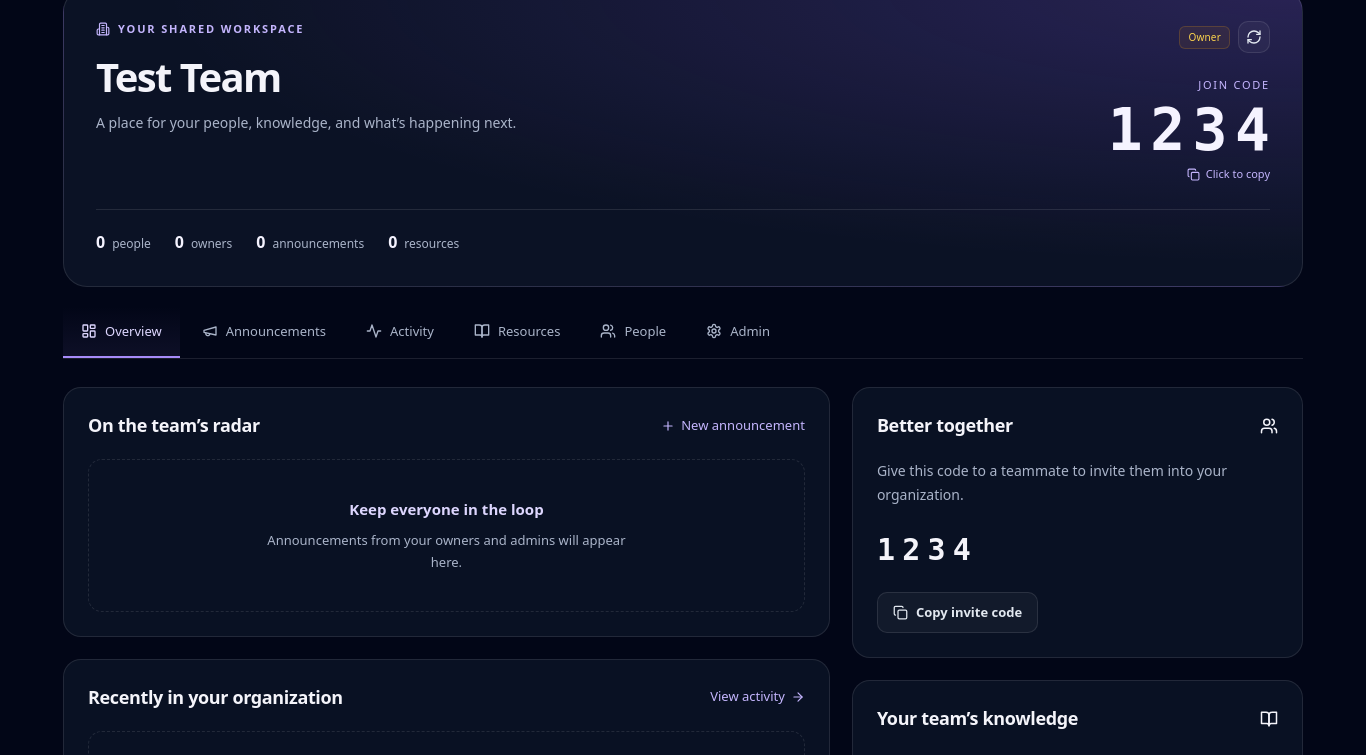
Organization deletion › keeps the dialog open and permits retry after a failure
Step 1. Click the button "Admin" → (738, 332), box [688, 306, 788, 358]
(page scrolled)
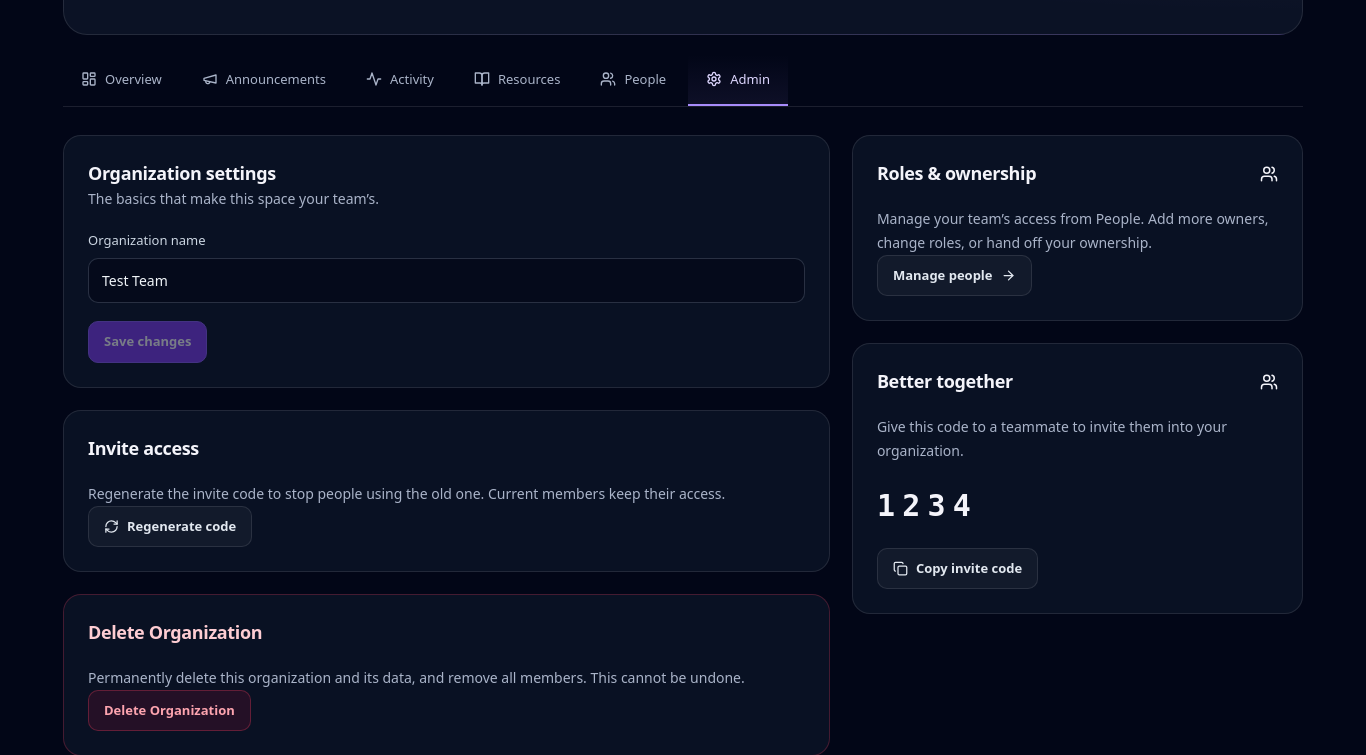
Step 2. Click the button "Delete Organization" → (169, 711), box [88, 690, 251, 731]
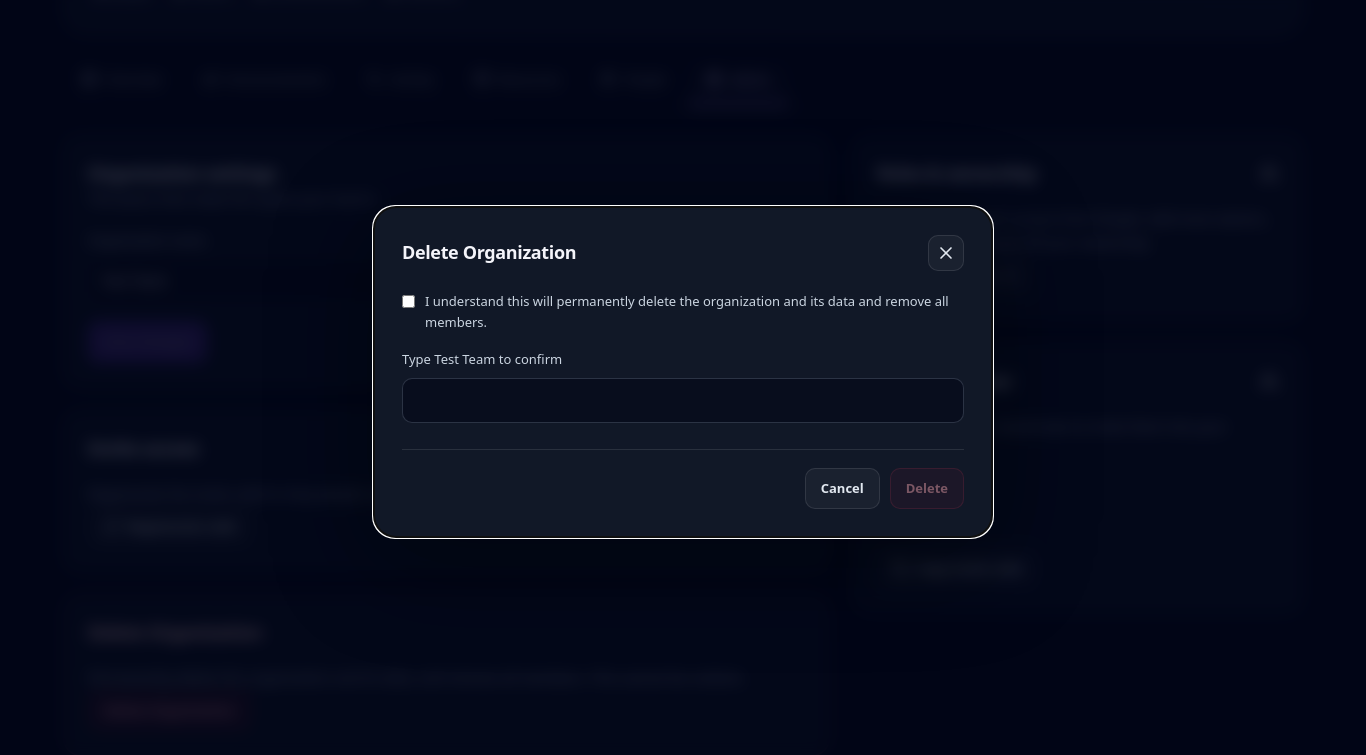
Step 3. Click the checkbox → (408, 301), box [402, 295, 415, 308]
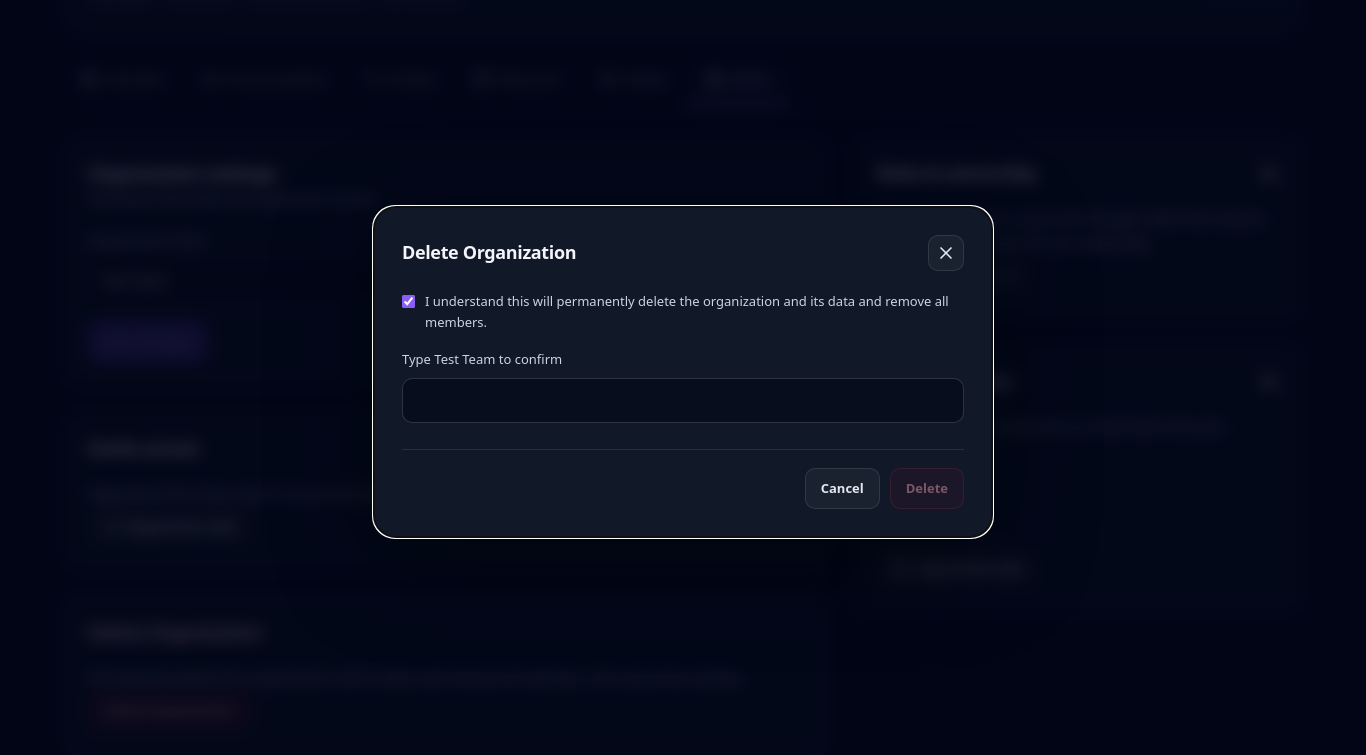
Step 4. Type "Test Team" into the field named "Organization name to confirm deletion" → (683, 400), box [402, 378, 964, 423]
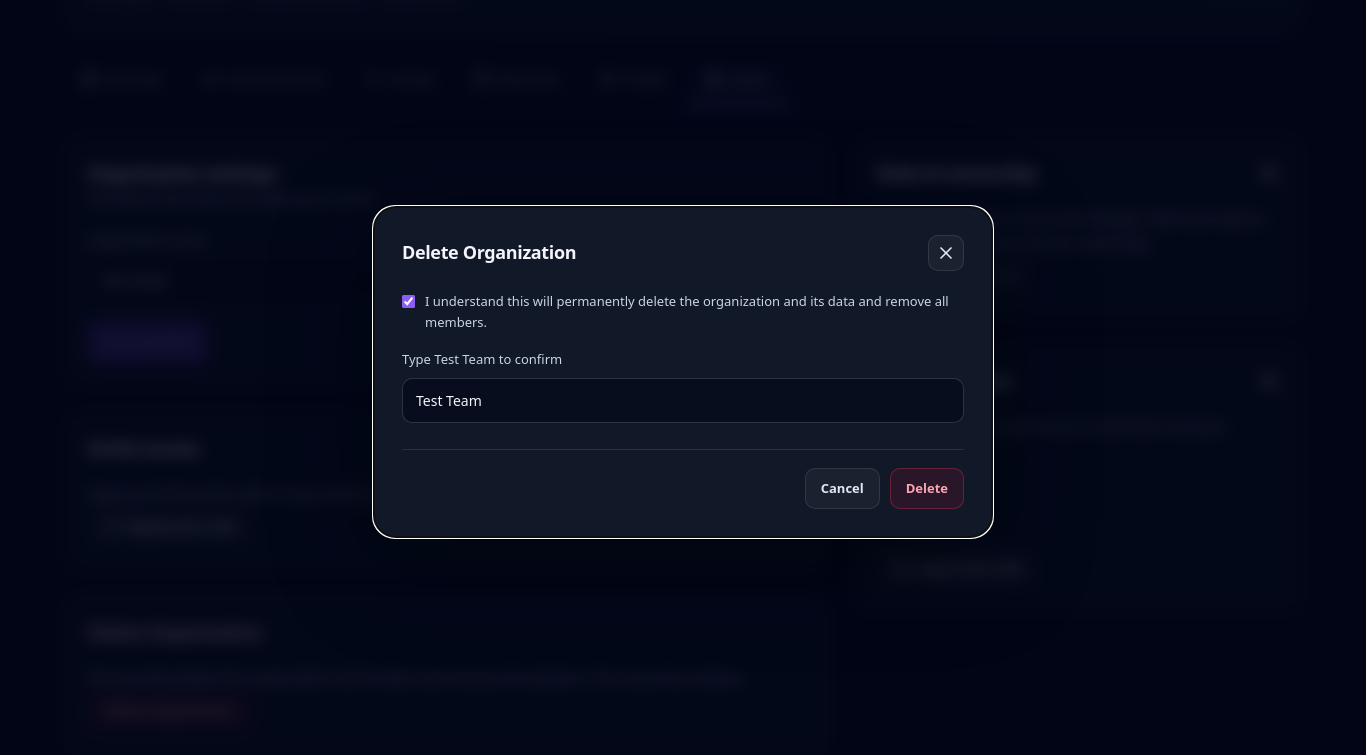
Step 5. Click the button "Delete" → (927, 489), box [890, 468, 964, 509]
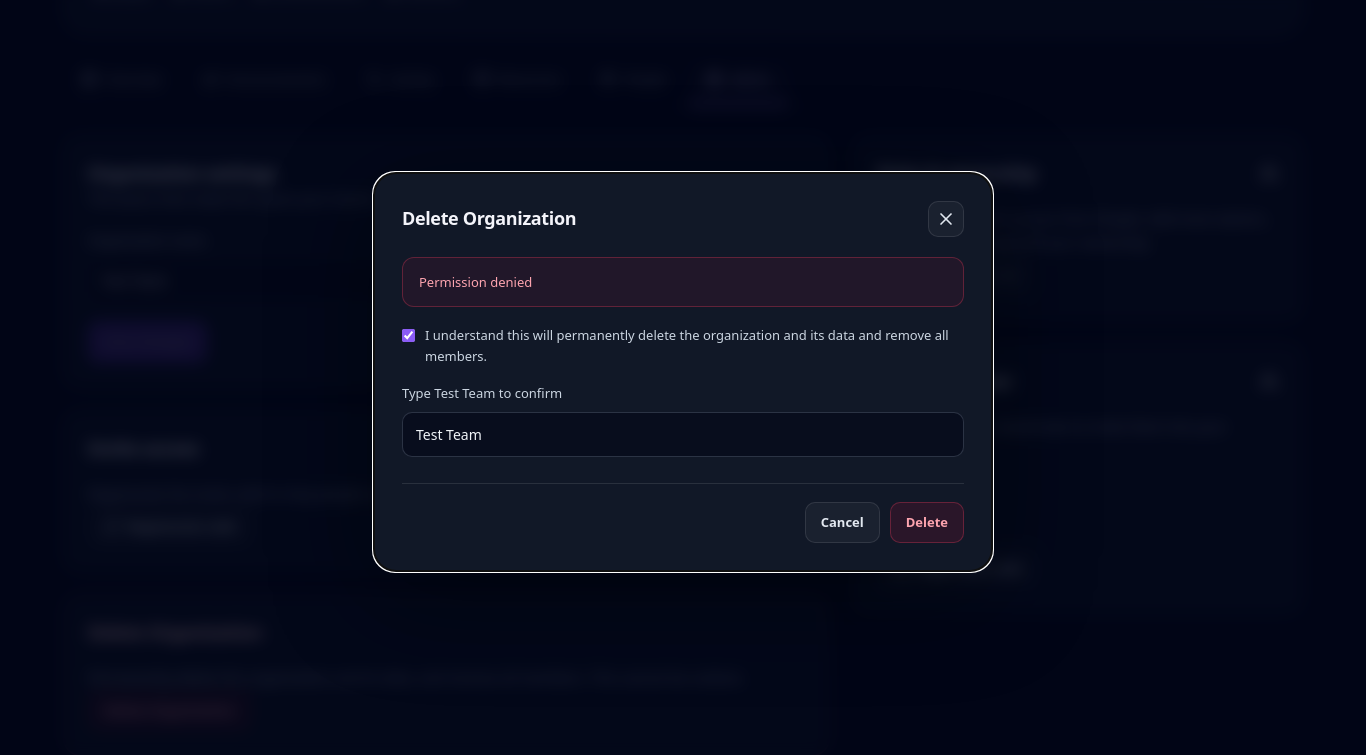
Expected: the button "Delete" is enabled, [890, 502, 964, 543]
Expected: the text "Permission denied" is shown, [402, 257, 964, 307]
